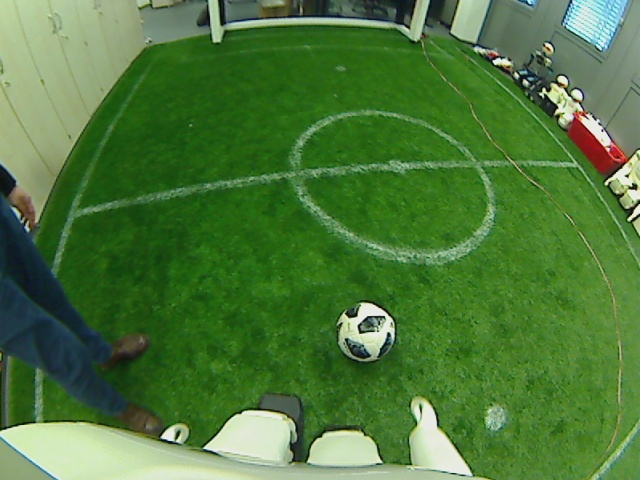ball: (333, 299, 396, 363)
